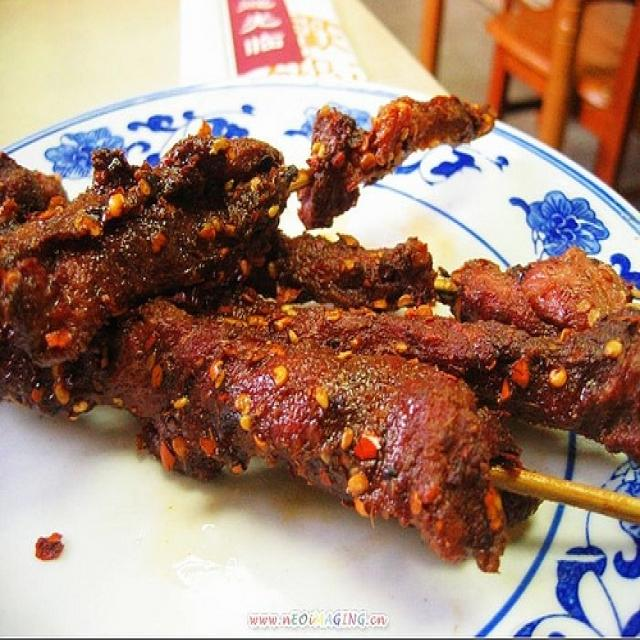烧串烤肉: (18, 54, 613, 589)
